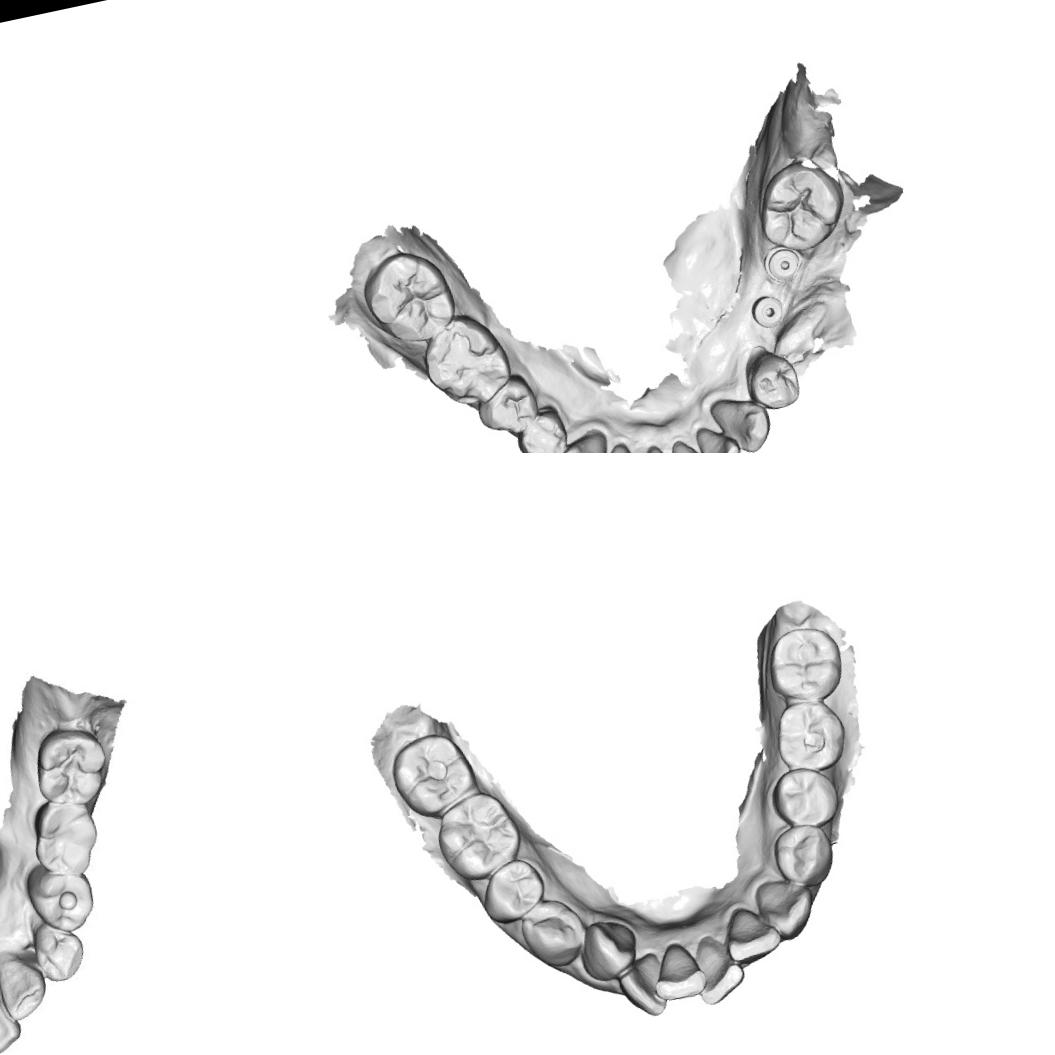canine: (752, 869, 822, 945), (572, 912, 642, 984), (708, 390, 774, 453), (0, 945, 53, 1023), (553, 426, 619, 453)
implant: (759, 239, 805, 288), (746, 288, 790, 331)
incisor: (685, 931, 750, 1010), (644, 938, 711, 1005), (716, 900, 783, 965), (613, 956, 675, 1023), (0, 970, 24, 1055), (696, 421, 744, 453), (664, 433, 717, 453), (589, 437, 646, 453)
molar: (356, 243, 462, 352), (414, 306, 518, 415), (748, 152, 848, 259), (425, 787, 531, 887), (384, 724, 484, 824), (761, 620, 849, 706), (766, 692, 852, 778), (28, 724, 108, 805), (29, 794, 100, 880)
premolar: (474, 853, 551, 928), (514, 894, 588, 972), (766, 760, 842, 835), (767, 816, 837, 891), (30, 861, 98, 935), (26, 910, 90, 984), (743, 345, 804, 416), (474, 374, 540, 438), (513, 407, 573, 453)
